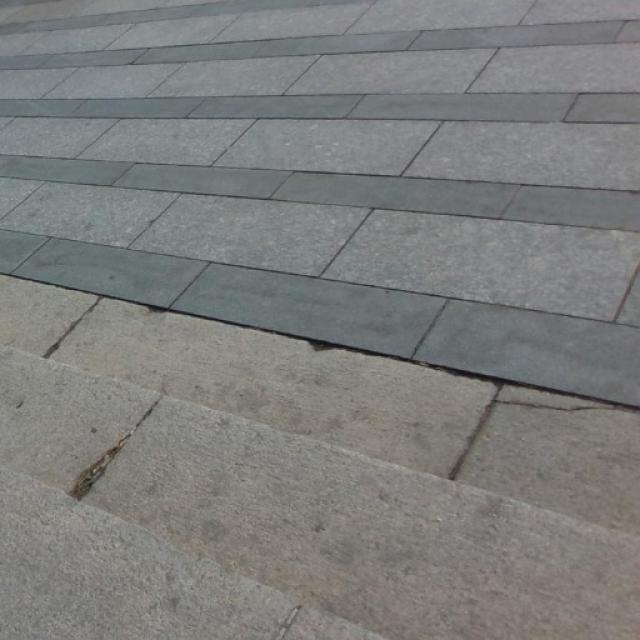stair: (2, 338, 626, 608)
